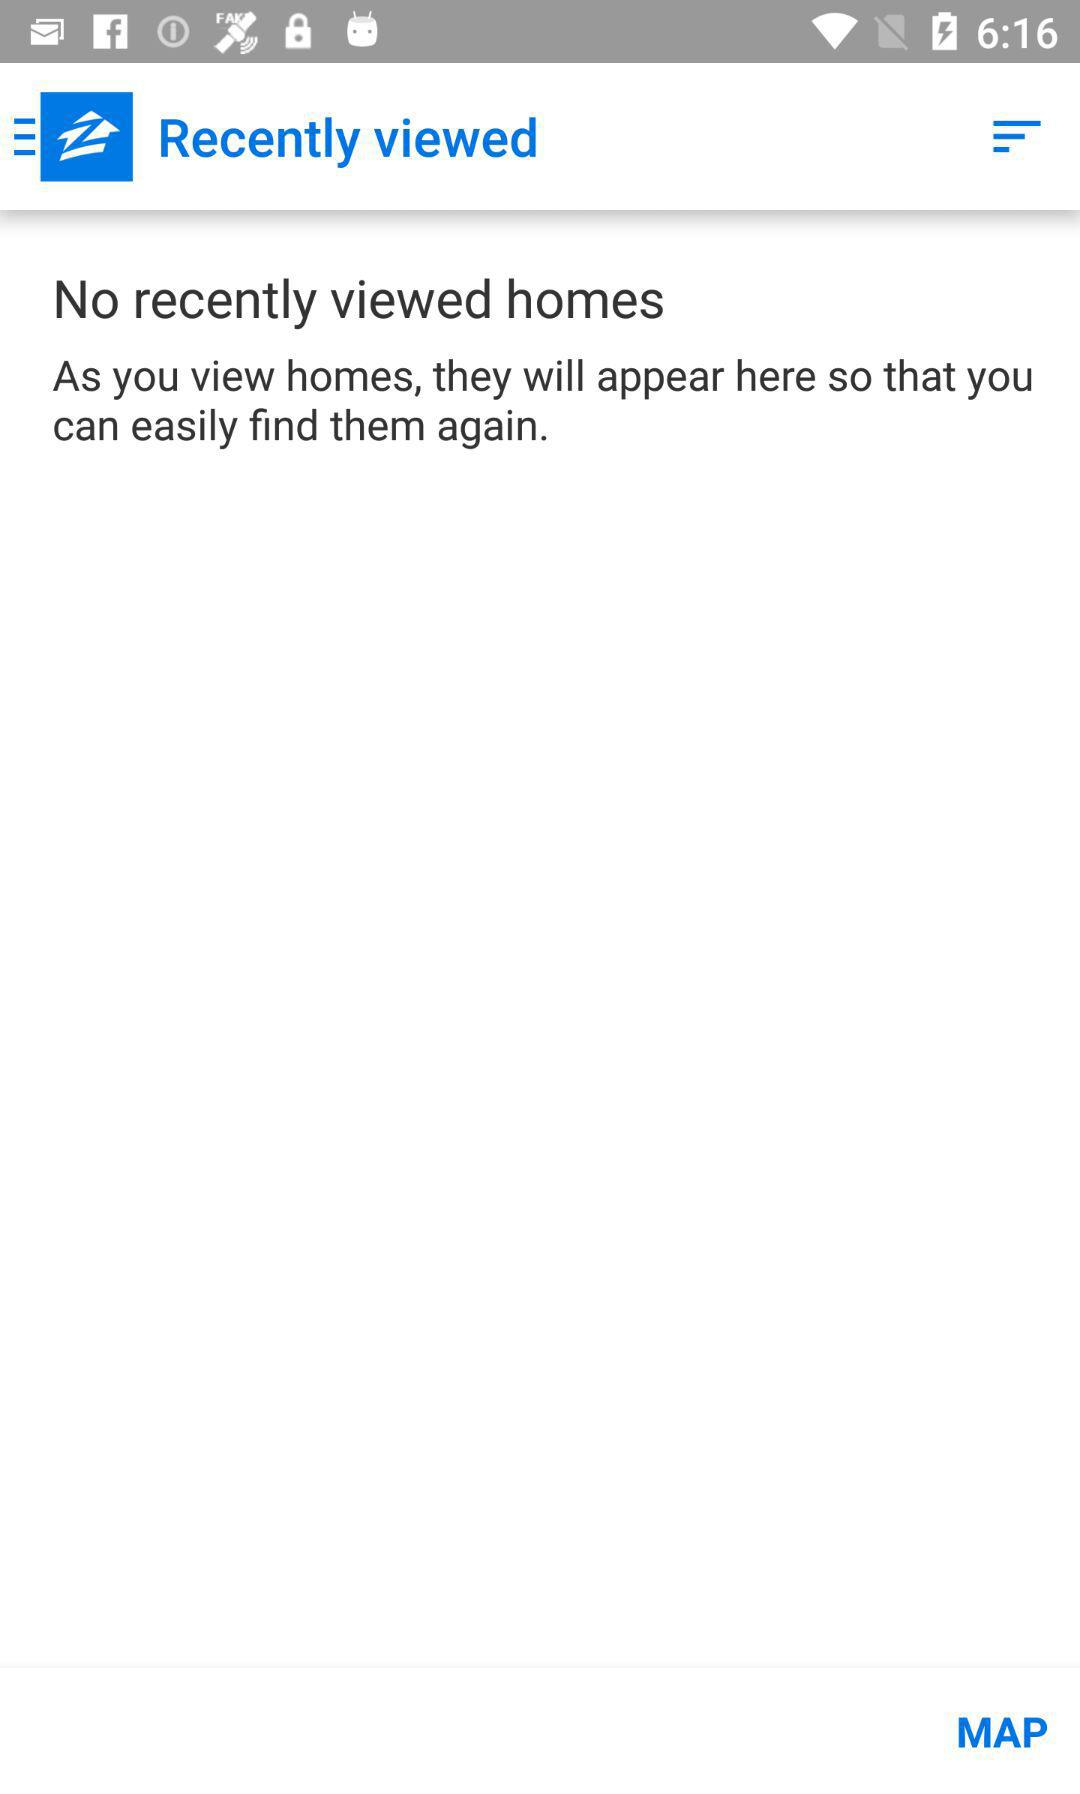Icon: (992, 119, 1042, 154)
Image: (14, 92, 135, 185)
Text: (53, 358, 1033, 451), (56, 277, 664, 331), (161, 117, 537, 169), (957, 1716, 1048, 1749)
Toolbar: (1, 64, 1080, 210)
UpperTaskBar: (1, 1, 1080, 64)
